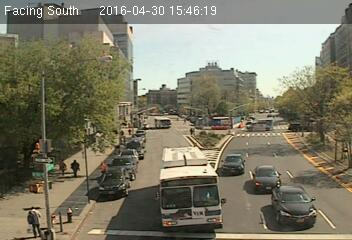neg: (303, 34, 321, 58), (233, 151, 245, 167), (193, 138, 203, 151), (316, 122, 326, 135), (292, 74, 300, 85), (218, 63, 226, 73), (94, 43, 102, 53), (127, 164, 134, 173), (198, 57, 205, 66), (201, 190, 208, 198), (230, 19, 236, 28), (152, 122, 158, 130), (181, 63, 187, 71), (173, 19, 178, 27), (336, 149, 341, 156), (267, 71, 272, 78), (283, 135, 288, 141), (290, 49, 295, 55), (224, 181, 229, 186), (261, 129, 266, 134), (204, 166, 208, 171), (267, 185, 271, 190), (154, 93, 157, 98), (345, 46, 348, 51), (223, 195, 226, 199), (160, 115, 163, 119), (324, 79, 327, 83), (175, 197, 178, 200)
pos: (21, 207, 43, 237), (65, 158, 83, 182), (55, 158, 68, 175), (96, 161, 109, 178), (124, 127, 131, 136), (188, 127, 195, 136), (183, 118, 187, 123), (176, 116, 179, 120)
